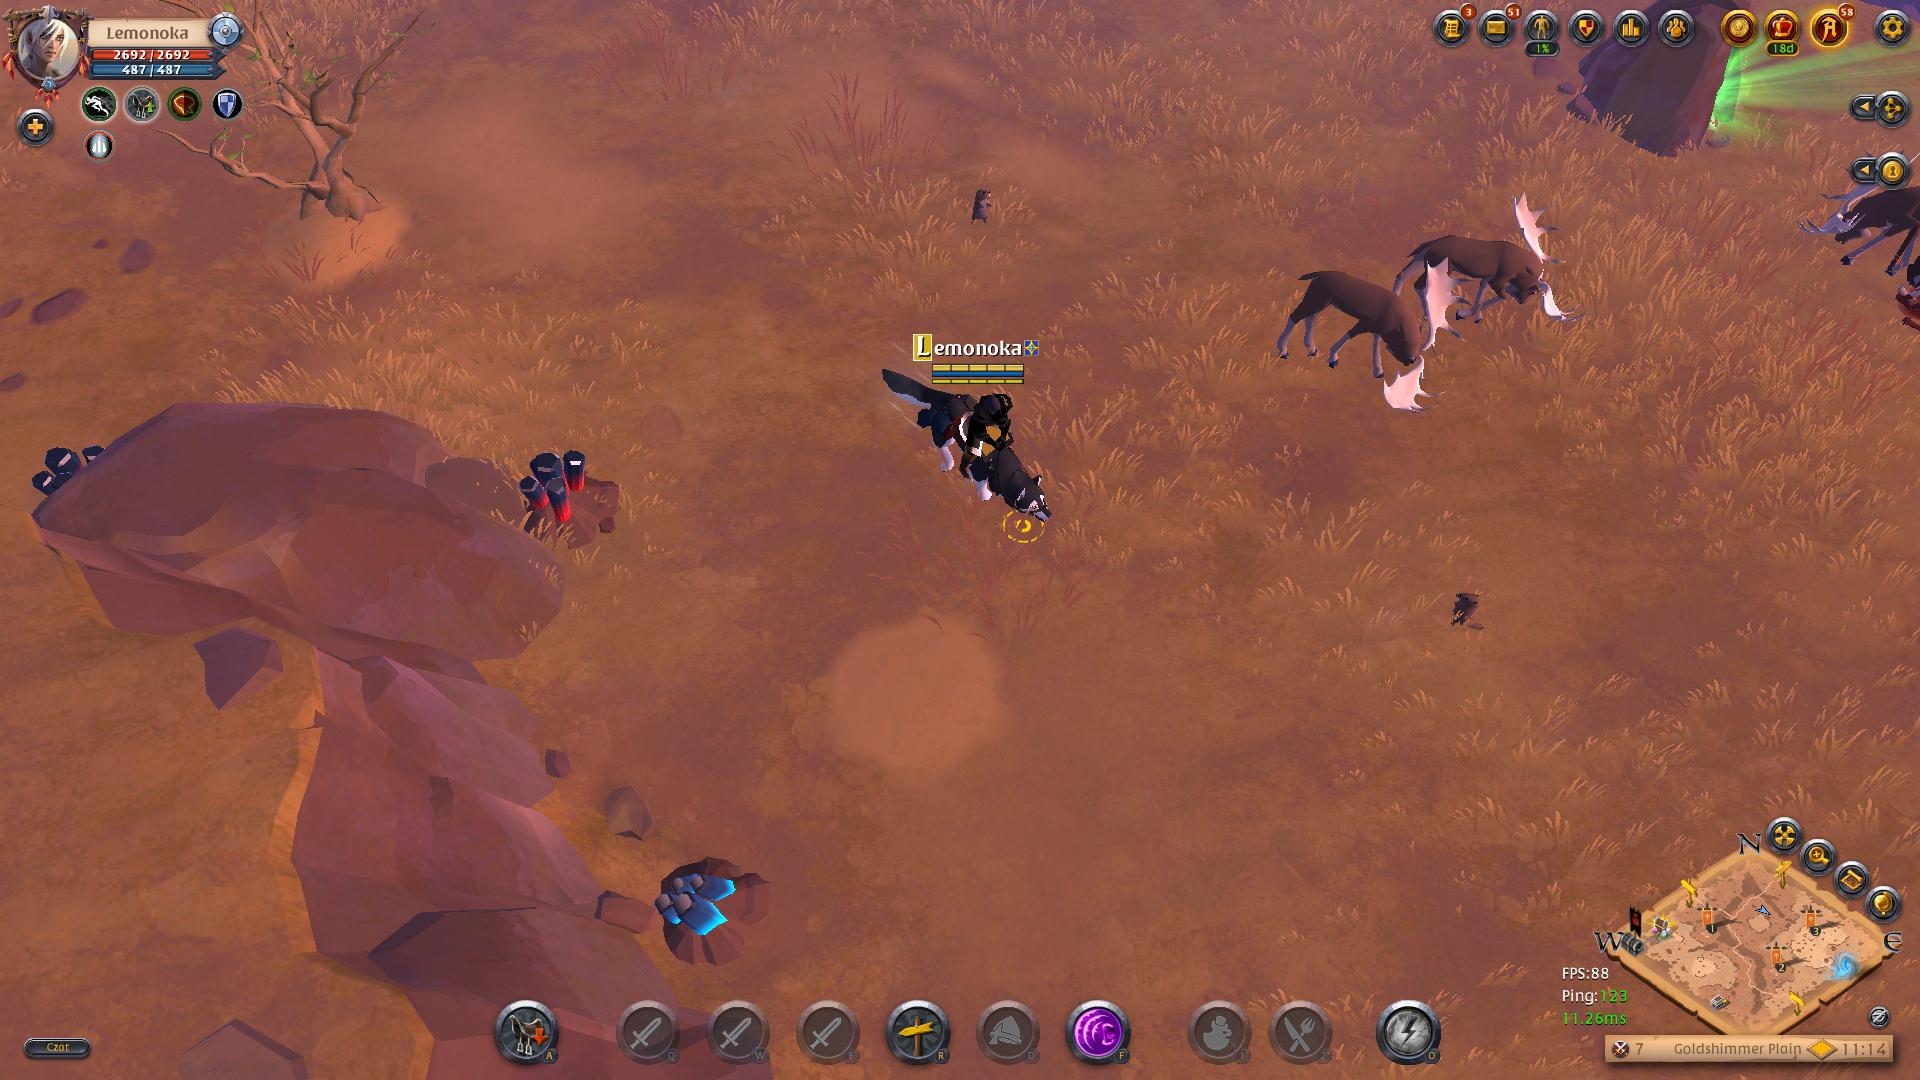ore tier 4: (655, 858, 773, 967)
ore tier 5: (505, 440, 626, 551)
